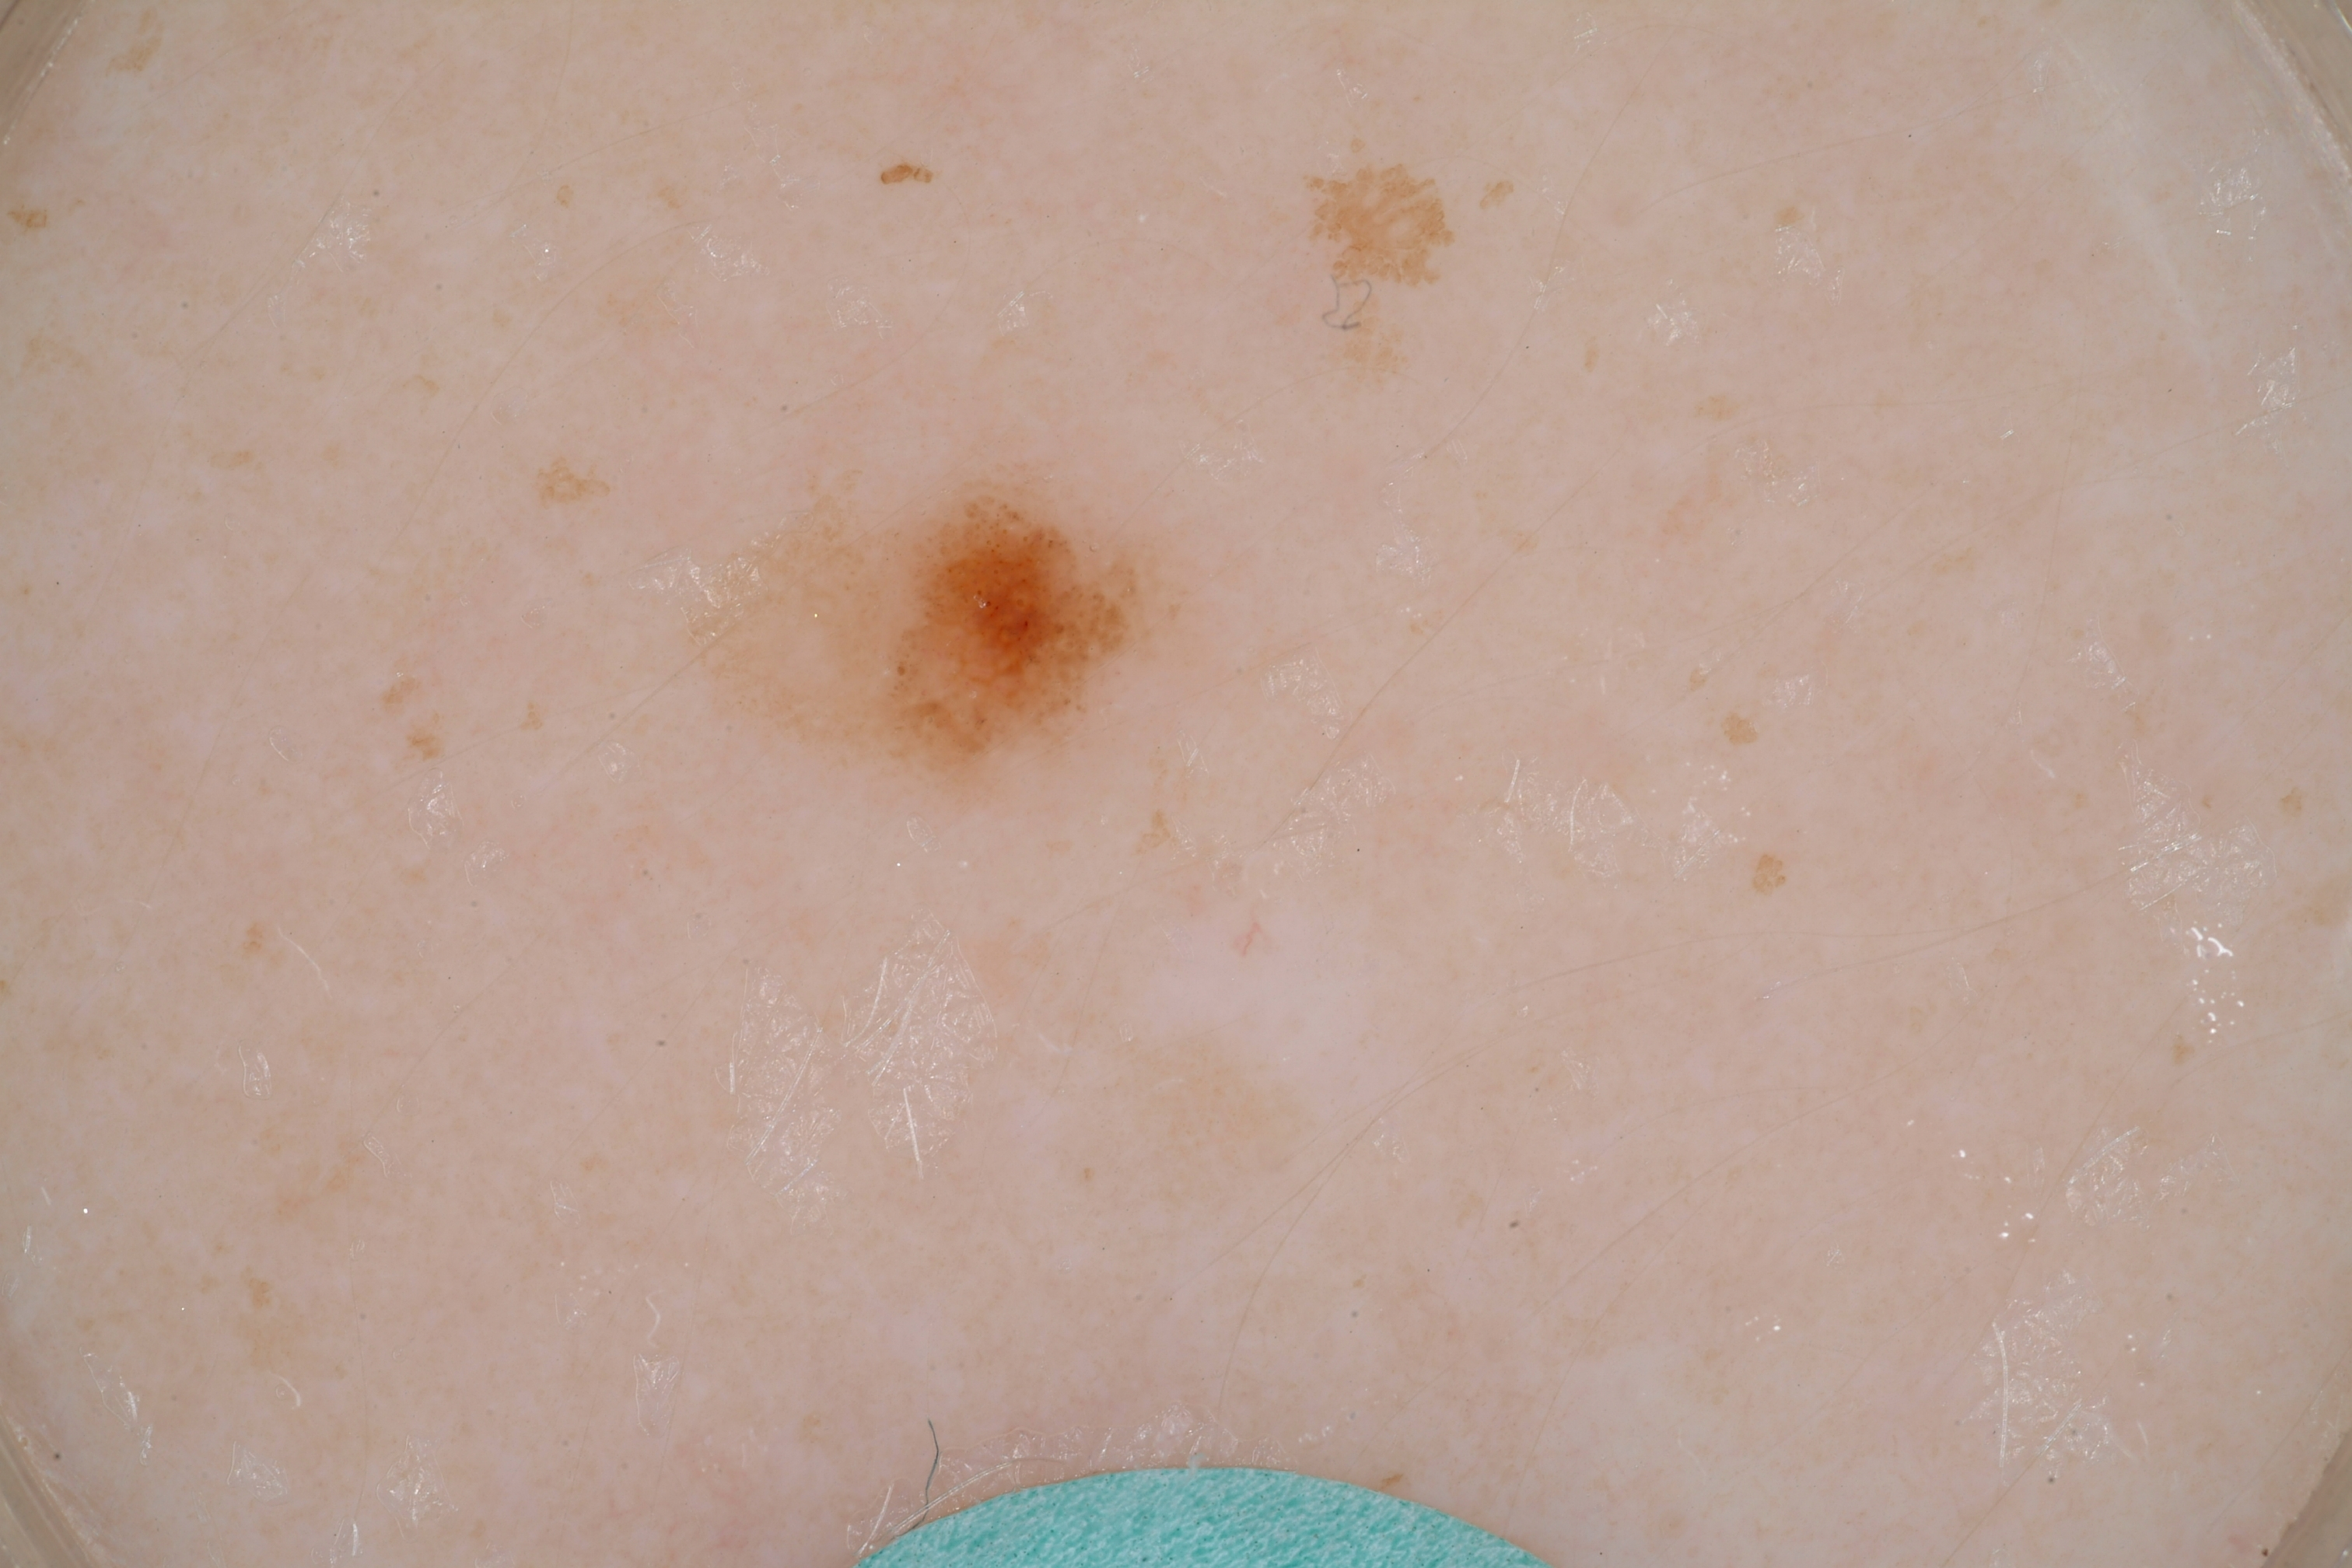Detected Lesion: (702, 488, 1183, 763)
